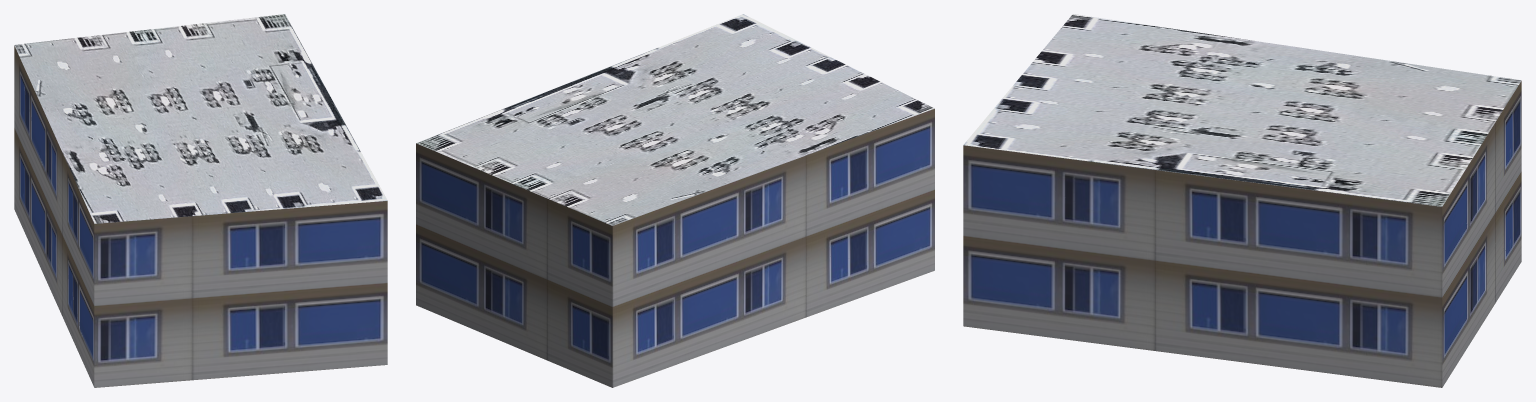
The model's file is ResTex__379.fbx.
3 renders of one model, left to right at view 1: azimuth 30°, elevation 25°; view 2: azimuth 150°, elevation 25°; view 3: azimuth 270°, elevation 25°, orthographic. The views are drawn at different scales.
Visible parts, largest first — view 1: CityEngineMaterial_23_m, CityEngineMaterial_m; view 2: CityEngineMaterial_23_m, CityEngineMaterial_m; view 3: CityEngineMaterial_23_m, CityEngineMaterial_m.
Boxes of the visible parts, x1=… form: CityEngineMaterial_23_m: x1=14, y1=46, x2=387, y2=387; CityEngineMaterial_m: x1=14, y1=14, x2=387, y2=223; CityEngineMaterial_23_m: x1=416, y1=108, x2=934, y2=387; CityEngineMaterial_m: x1=416, y1=14, x2=934, y2=225; CityEngineMaterial_23_m: x1=963, y1=81, x2=1521, y2=387; CityEngineMaterial_m: x1=963, y1=14, x2=1521, y2=206.
Size of the model in its own units: 13.69 by 6 by 16.77.
Materials: 2 (2 with a texture image).
